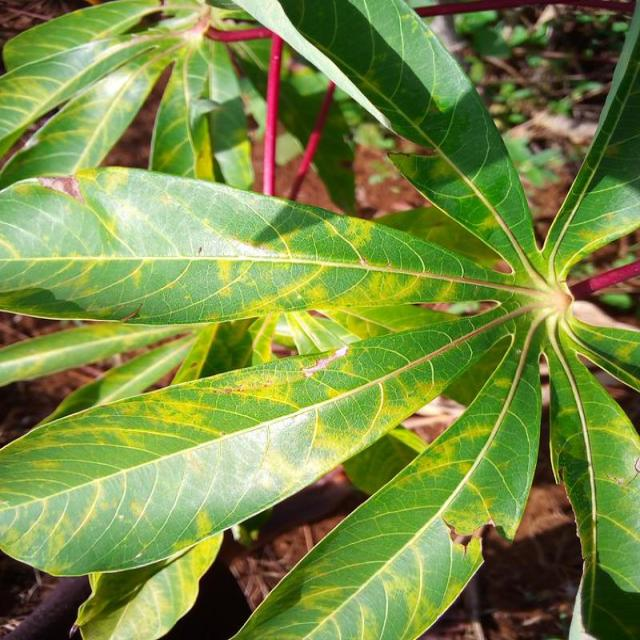cassava leaf: (0, 0, 638, 638), (0, 304, 515, 579), (228, 316, 542, 638), (0, 164, 524, 326)
